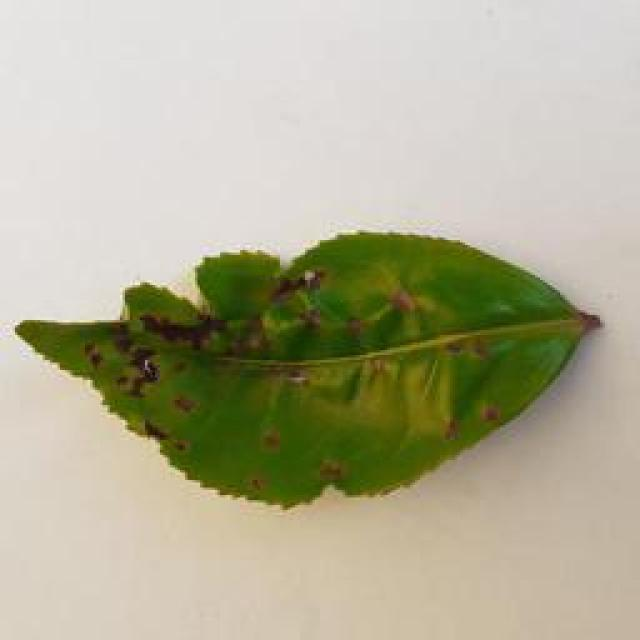Helopeltis: (14, 226, 633, 523)
